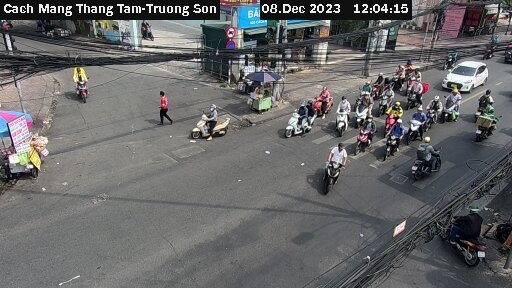car: (441, 59, 495, 95)
motorbike: (436, 204, 495, 272), (188, 109, 238, 145), (406, 141, 445, 185), (283, 103, 320, 140), (317, 146, 348, 189), (65, 70, 100, 103), (468, 113, 503, 146), (352, 120, 382, 153), (329, 100, 358, 134), (440, 90, 468, 122), (380, 128, 408, 160), (406, 108, 433, 138), (423, 98, 450, 127), (380, 104, 409, 125)
